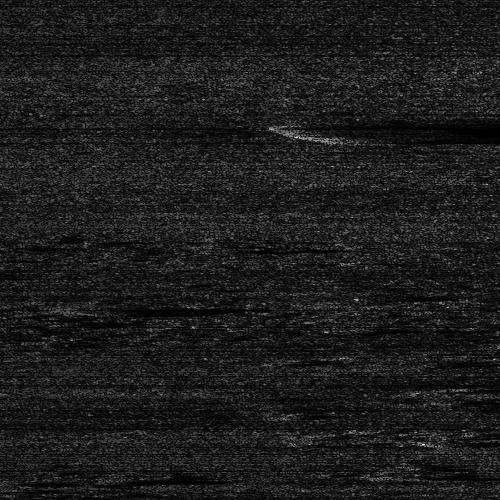rock: (266, 124, 339, 145), (338, 470, 431, 479), (190, 244, 263, 253), (50, 305, 123, 314), (396, 438, 459, 443), (120, 475, 161, 482)
shadow: (303, 124, 500, 145), (227, 244, 342, 253), (87, 305, 192, 314), (385, 470, 478, 479), (141, 475, 247, 482), (428, 438, 500, 443)
